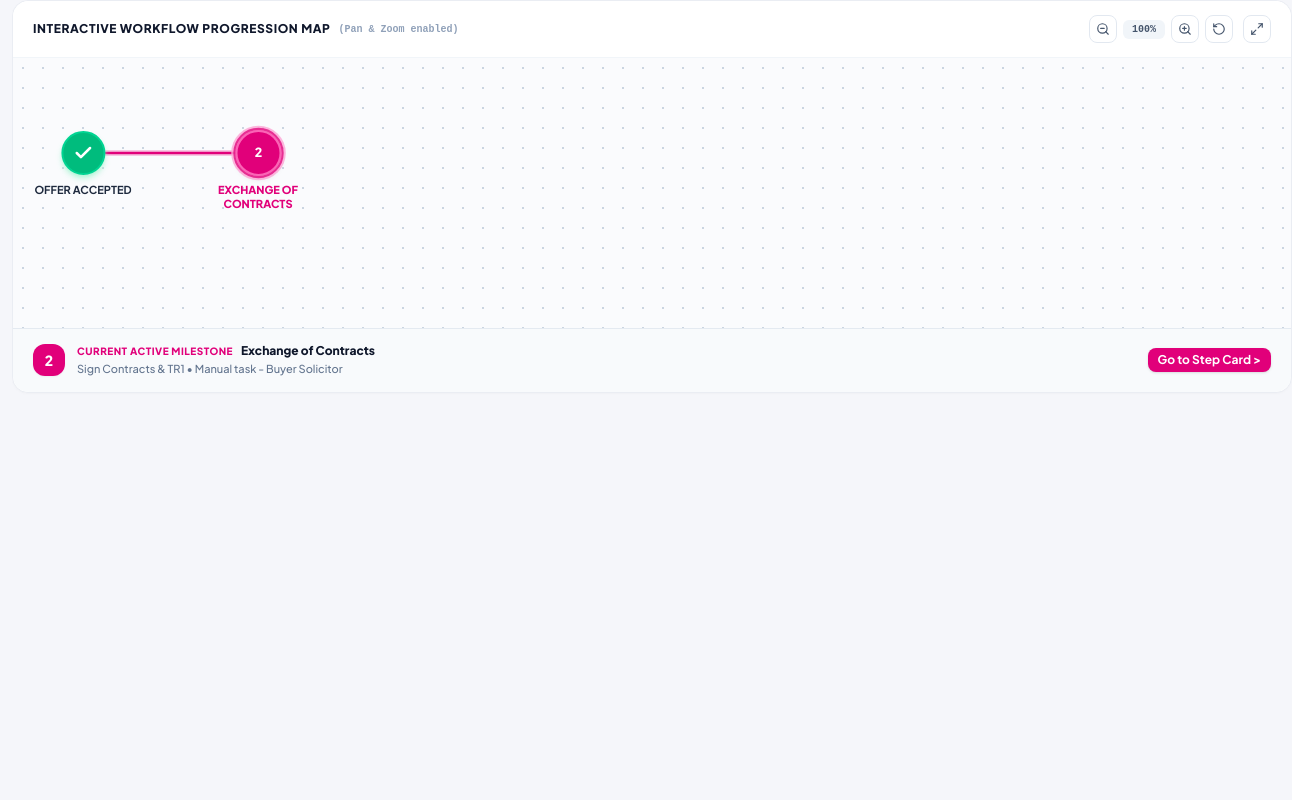
Test case: SalesProgressionTracker › correctly reflects waived work items in the hover card with Waived indicator and completed progress
Expected: the text "Exchange of Contracts" is shown, [218,183,298,210]
Hover over the text "Exchange of Contracts" at (258, 170), box [218,130,298,210]
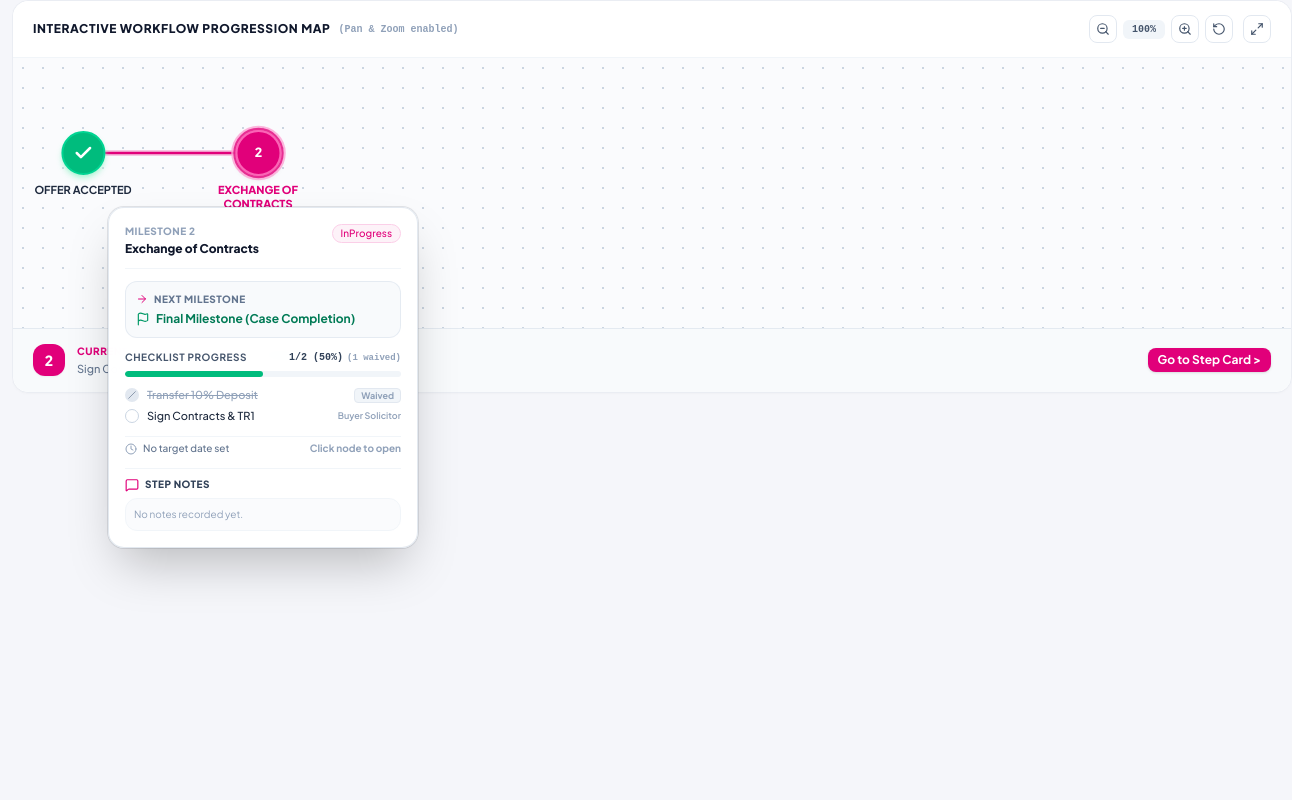
Expected: the text "1/2 (50%)(1 waived)" is shown, [289,350,401,365]
Expected: the text "(1 waived)" is shown, [347,352,401,362]
Expected: the text "Transfer 10% Deposit" is shown, [147,388,258,401]
